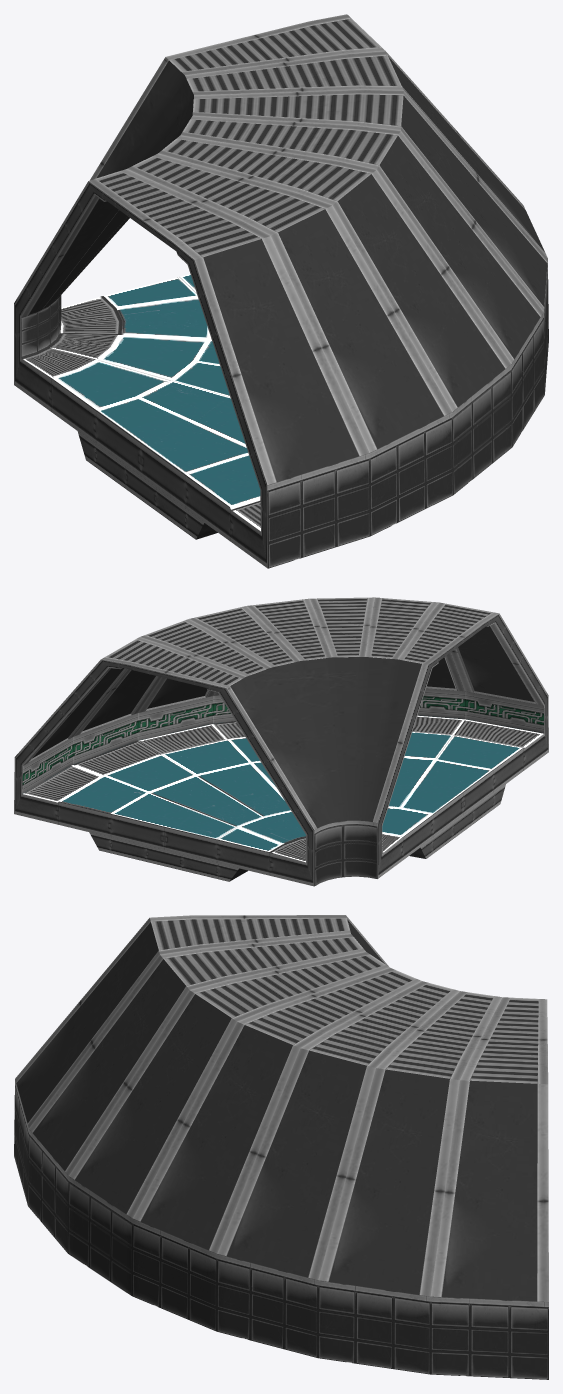
Rendered from ARC1110004.fbx.
3 renders of one model, top to bottom at view 1: azimuth 30°, elevation 25°; view 2: azimuth 150°, elevation 25°; view 3: azimuth 270°, elevation 25°, orthographic. The views are drawn at different scales.
Parts seen in each view (by area): view 1: smARC1110004; view 2: smARC1110004; view 3: smARC1110004.
Boxes of the visible parts, x1,y1,x2,y2 form: smARC1110004: [14, 14, 548, 568]; smARC1110004: [14, 597, 548, 886]; smARC1110004: [14, 915, 548, 1379].
Size of the model in its own units: 599 by 326 by 603.
1 material, 1 textured.
